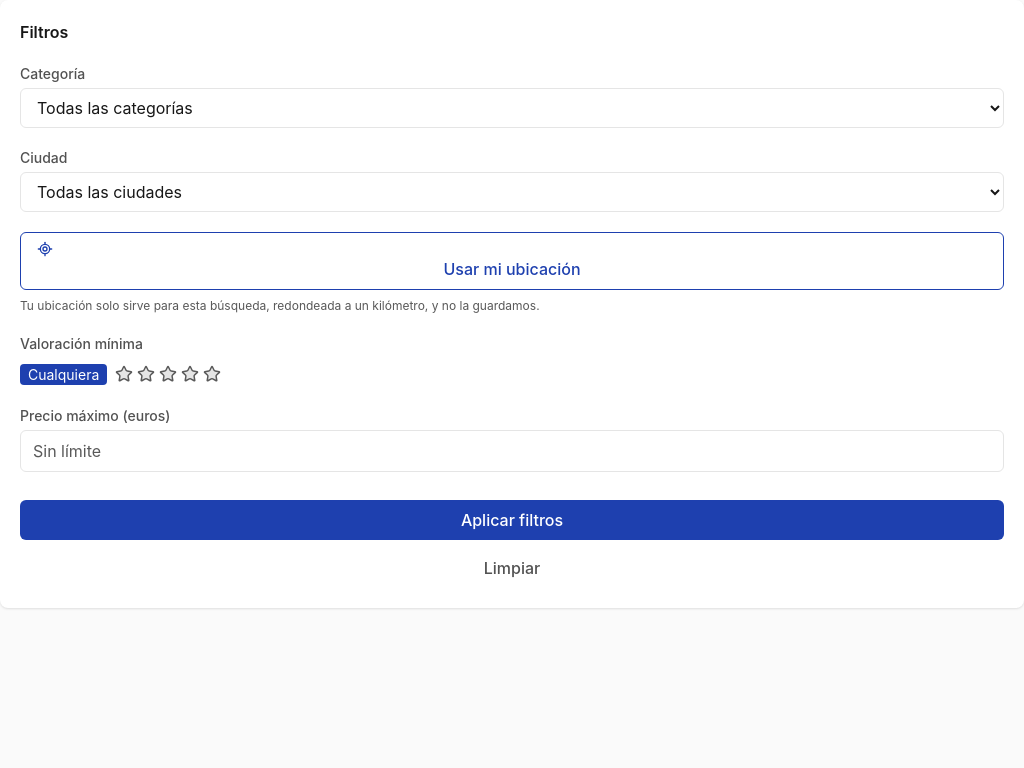
FilterPanel › cerca de ti › si el navegador no la da, lo explica y ofrece la ciudad
Click the button "Usar mi ubicación" at (512, 261), box [20,232,1004,290]
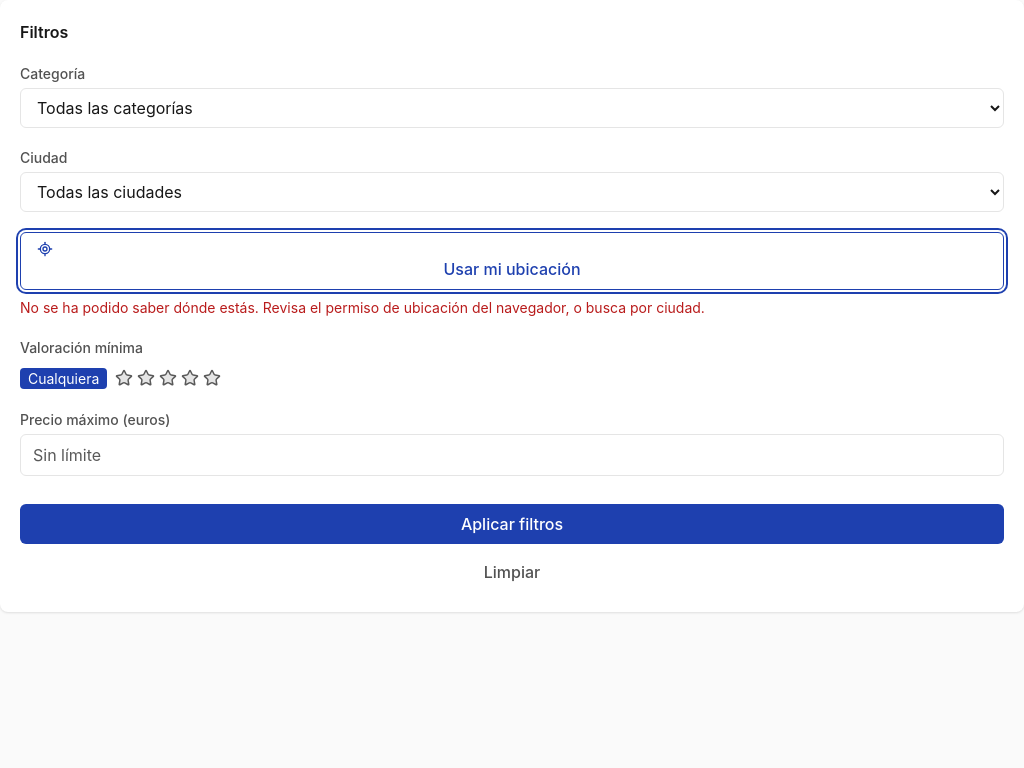
expect the message shows "No se ha podido saber dónde estás. Revisa el permiso de ubicación del navegador, o busca por ciudad.": met, box [20,299,705,316]
